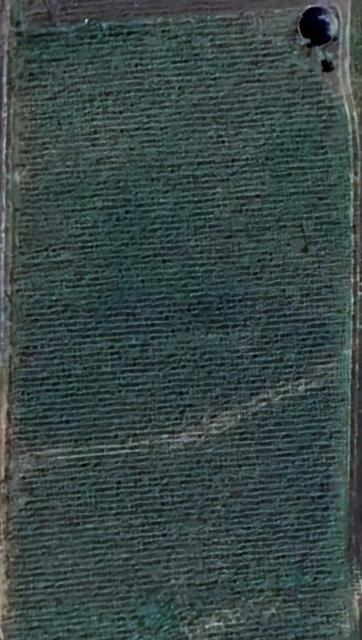Farms: (4, 11, 350, 637)
